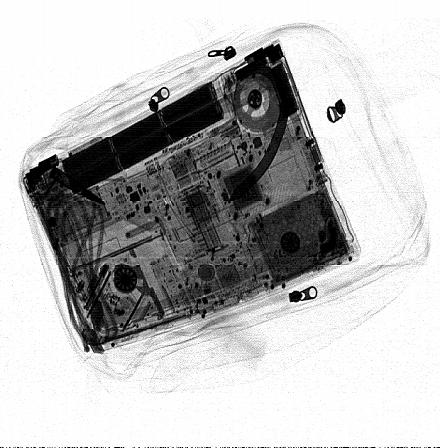Bullet: (47, 164, 108, 207)
